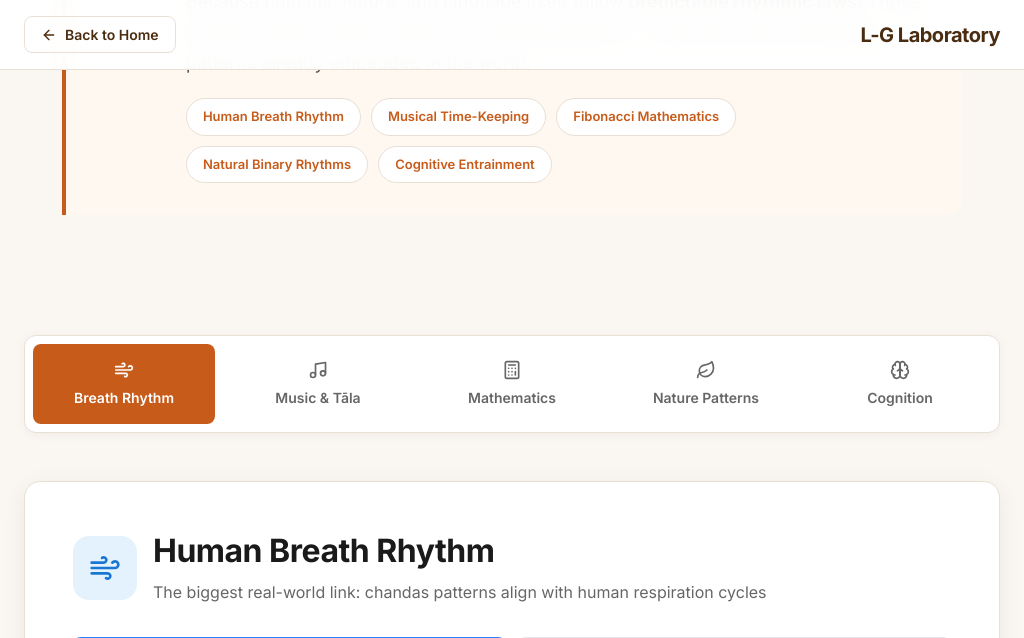
LGLab › switches to the Nature Patterns tab
(page scrolled)
Click the button "Nature Patterns": (706, 384) [615,344,797,424]
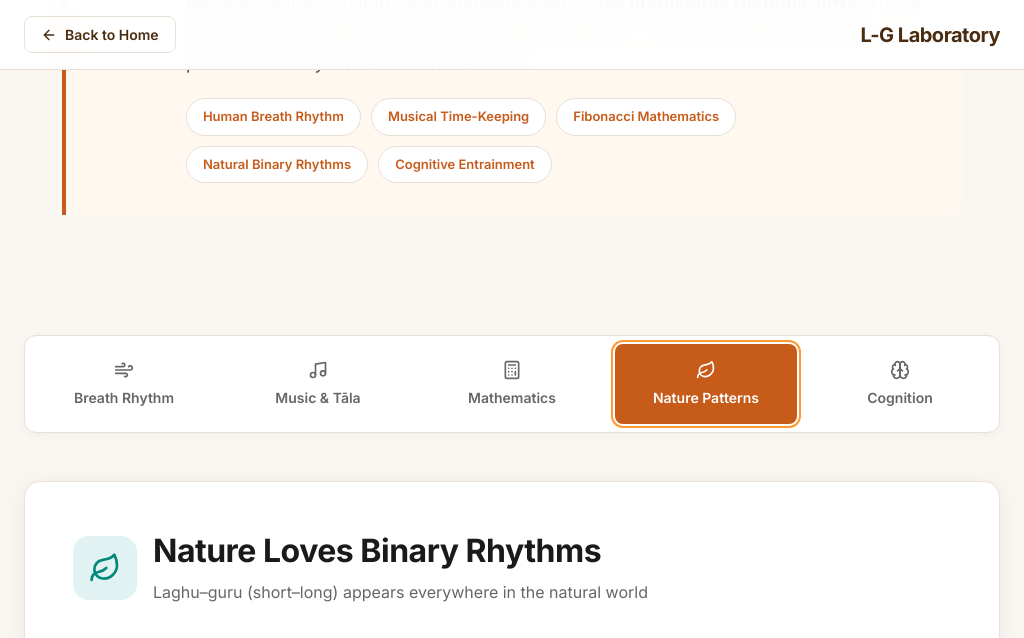
Expected: the heading "Nature Loves Binary Rhythms" is shown, [153,530,648,572]
